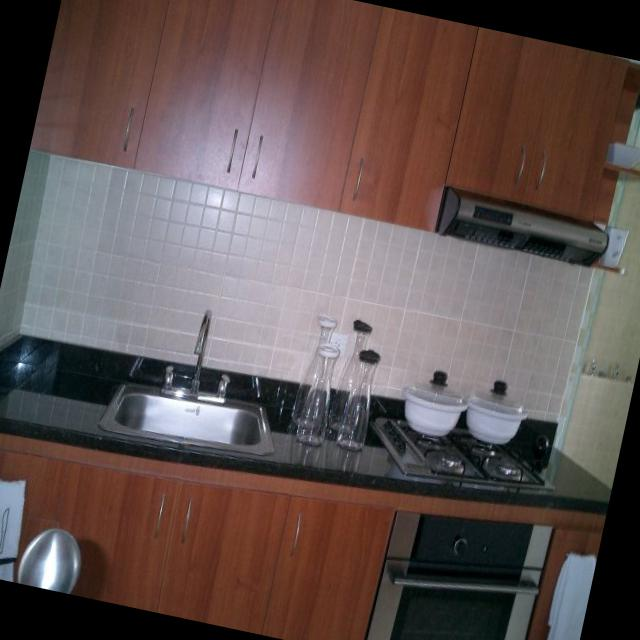Bottle: (296, 342, 341, 447)
bottle crop: (337, 349, 381, 450)
cooker: (438, 186, 610, 271)
cupboards: (30, 0, 631, 230)
handle bar: (228, 133, 237, 172)
oven cloth: (364, 516, 559, 640)
pot hanger: (399, 365, 465, 439)
sink basin: (98, 313, 272, 449)
stove burner: (375, 420, 551, 485)
towel basket: (547, 542, 596, 640)
